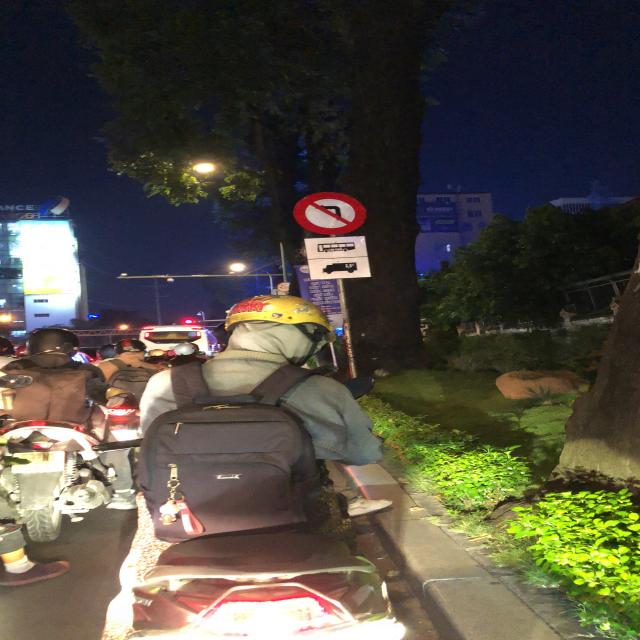Bien bao cam re trai: (289, 186, 369, 237)
